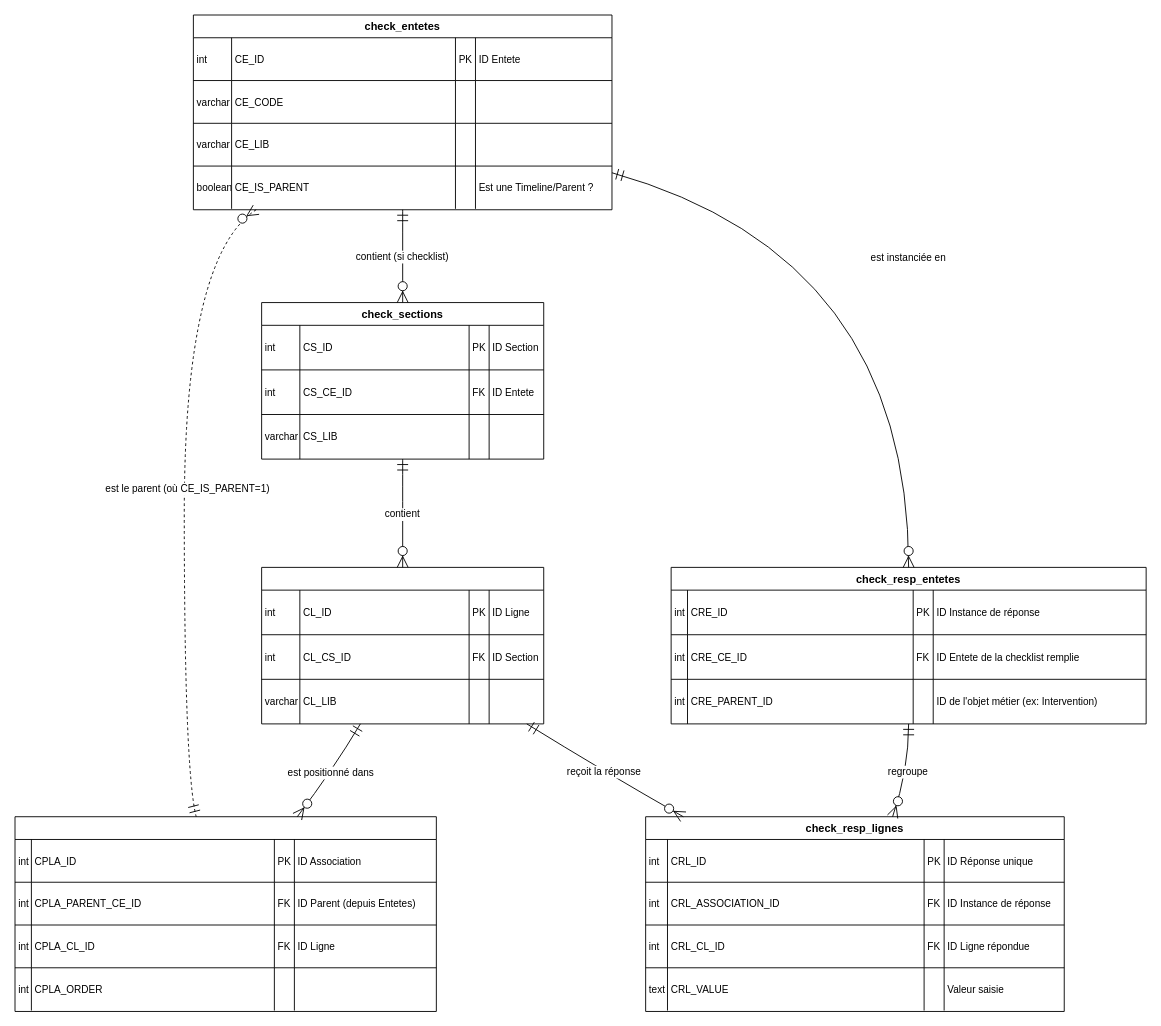
This 1161x1026 diagram has some shape labels left out. The shapes that lost their labels are listed below. From the top down, each one's box as (x1, y1, x2, y2) in pixels, then its label:
(261, 566, 544, 724): check_lignes
(14, 816, 436, 1011): check_pl_associations
